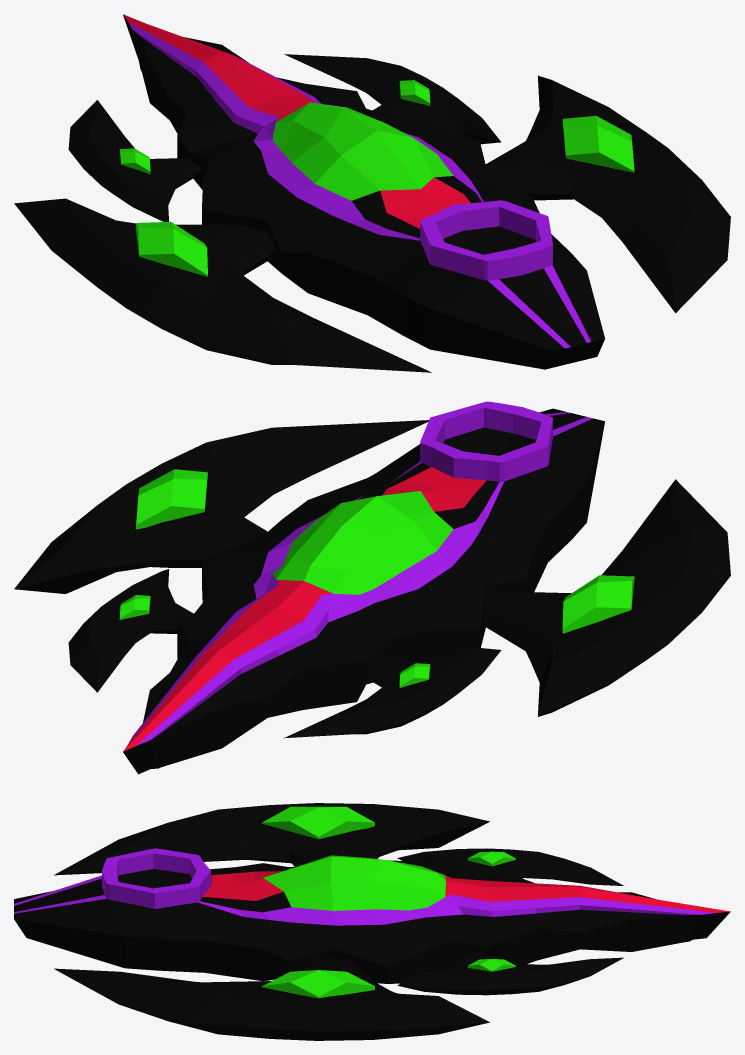
The model's file is NaveEnemigaAlien2.fbx.
The picture shows the model from 3 angles, top to bottom: view 1: azimuth 30°, elevation 25°; view 2: azimuth 150°, elevation 25°; view 3: azimuth 270°, elevation 25°; orthographic projection. The views are drawn at different scales.
Visible parts, largest first — view 1: Cube; view 2: Cube; view 3: Cube.
Boxes of the visible parts, left/top/right/bottom form: Cube: left=14, top=14, right=730, bottom=372; Cube: left=14, top=401, right=730, bottom=774; Cube: left=14, top=803, right=730, bottom=1040.
Size of the model in its own units: 269 by 56.52 by 373.
